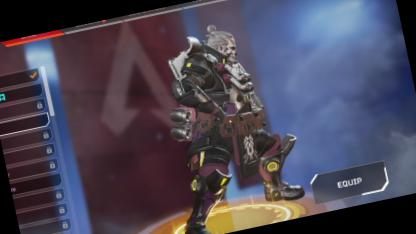Target: (146, 12, 300, 201)
